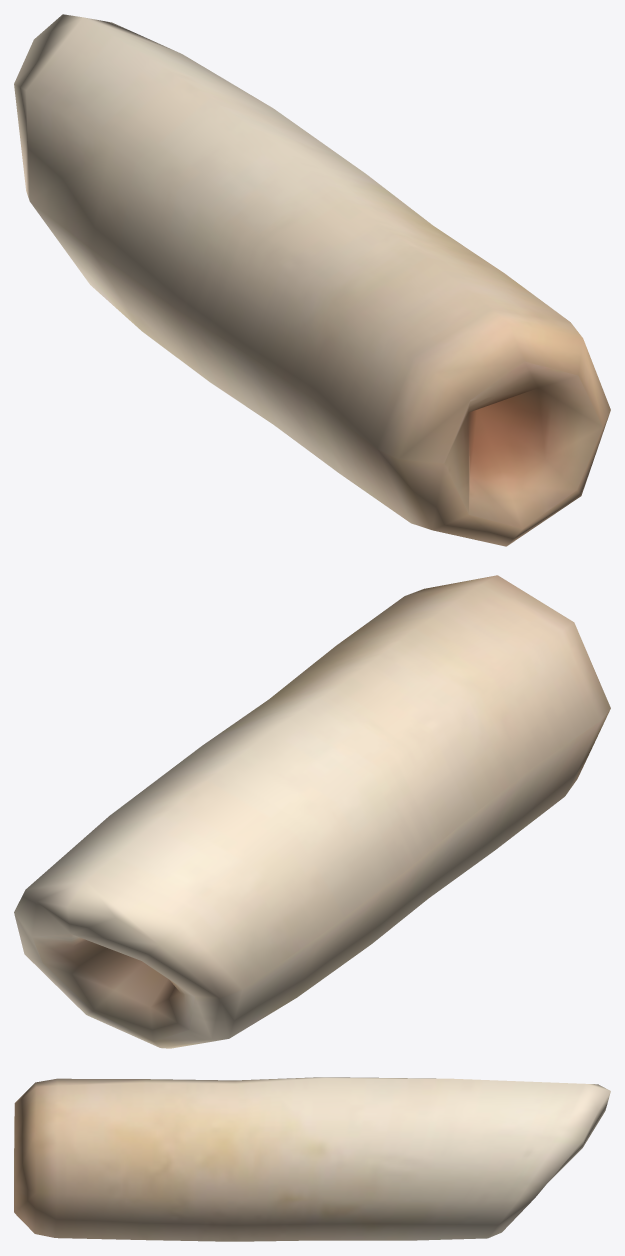
The model's file is monsterchara_kiritan_kiritanpo2.glb.
3 views of the same model, one above another, from view 1: azimuth 30°, elevation 25°; view 2: azimuth 150°, elevation 25°; view 3: azimuth 270°, elevation 25° (orthographic). The views are drawn at different scales.
Size of the model in its own units: 0.2364 by 0.2357 by 0.7884.
Materials: 1 (1 with a texture image).
